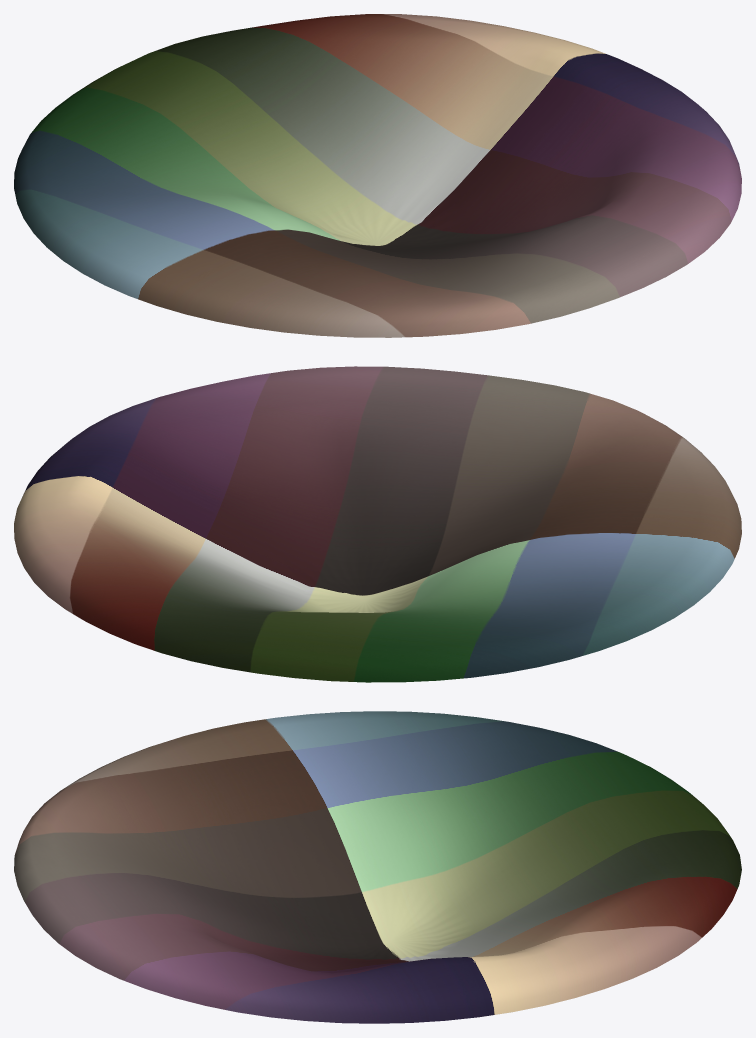
Rendered from SM_LakeGround.fbx.
3 views of the same model, one above another, from view 1: azimuth 30°, elevation 25°; view 2: azimuth 150°, elevation 25°; view 3: azimuth 270°, elevation 25° (orthographic).
Parts seen in each view (by area): view 1: Ground; view 2: Ground; view 3: Ground.
Part boxes in pixels (left/top/right/bottom): Ground: left=14, top=14, right=741, bottom=337; Ground: left=14, top=366, right=741, bottom=682; Ground: left=14, top=711, right=741, bottom=1023.
Size of the model in its own units: 327 by 48.17 by 330.
